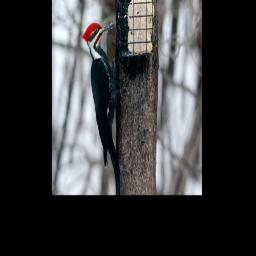Woodpecker: (82, 19, 131, 191)
